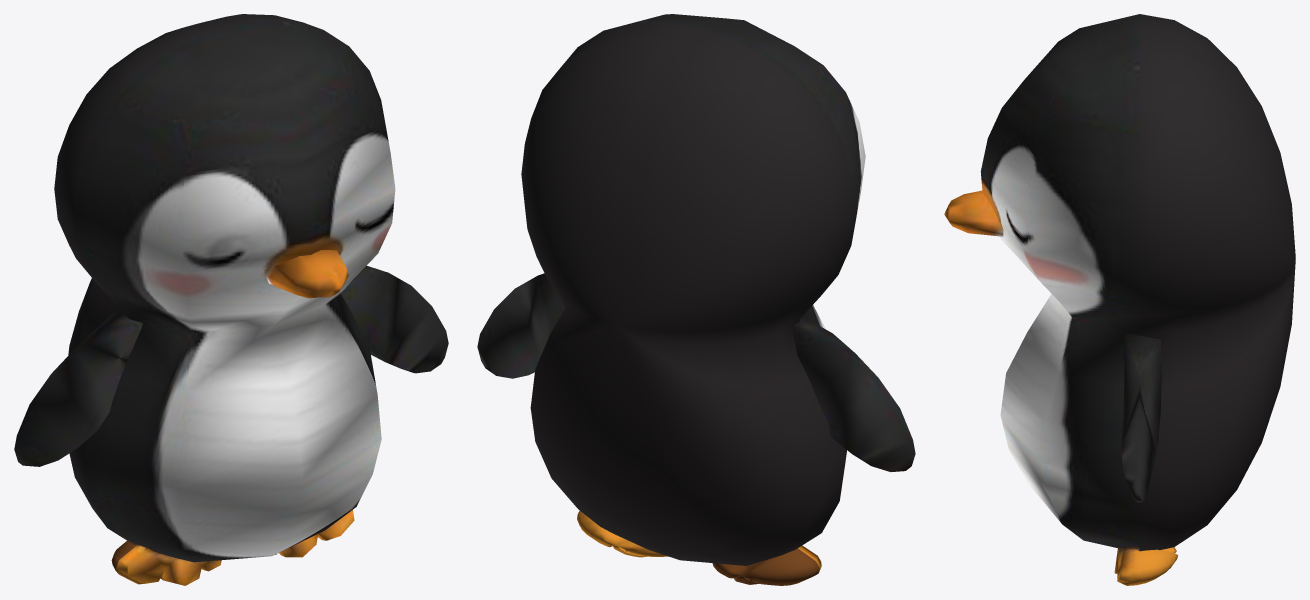
File: penguin-04-31-sleepy-lidded-crochet-penguin.gltf
3 views of the same model, side by side, from view 1: azimuth 30°, elevation 25°; view 2: azimuth 150°, elevation 25°; view 3: azimuth 270°, elevation 25° (orthographic). The views are drawn at different scales.
Visible parts, largest first — view 1: penguin-04-31-sleepy-lidded-crochet-penguin; view 2: penguin-04-31-sleepy-lidded-crochet-penguin; view 3: penguin-04-31-sleepy-lidded-crochet-penguin.
Boxes of the visible parts, x1=… form: penguin-04-31-sleepy-lidded-crochet-penguin: x1=14, y1=14, x2=448, y2=585; penguin-04-31-sleepy-lidded-crochet-penguin: x1=477, y1=14, x2=915, y2=585; penguin-04-31-sleepy-lidded-crochet-penguin: x1=944, y1=14, x2=1295, y2=585.
Bounding box in the file's own units: 0.2 × 0.2364 × 0.1465.
1 material, 1 textured.
